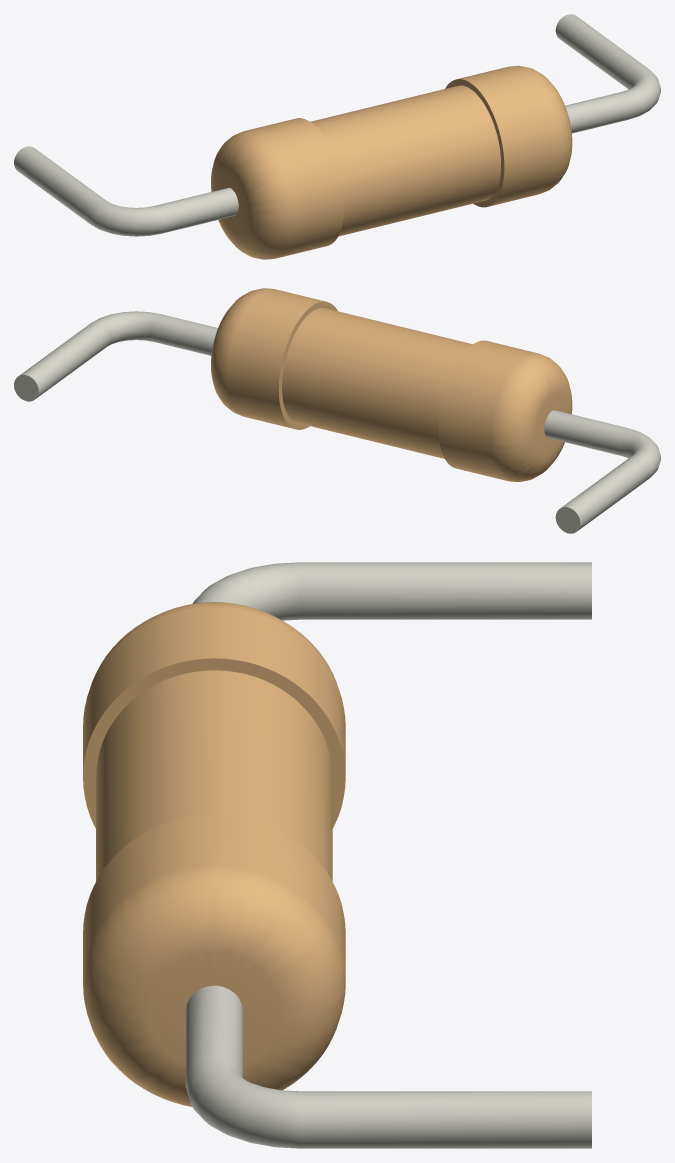
Rendered from r-axial-din0309-l9.0-d3.2-p15.24-h.glb.
3 renders of one model, top to bottom at view 1: azimuth 30°, elevation 25°; view 2: azimuth 150°, elevation 25°; view 3: azimuth 270°, elevation 25°, orthographic. The views are drawn at different scales.
Parts seen in each view (by area): view 1: RES-THT-01, PIN-01; view 2: RES-THT-01, PIN-01; view 3: RES-THT-01, PIN-01.
Boxes of the visible parts, box(x1,y1,x2,y2) form: RES-THT-01: box(211, 65, 572, 259); PIN-01: box(14, 14, 660, 236); RES-THT-01: box(211, 288, 572, 481); PIN-01: box(14, 311, 660, 533); RES-THT-01: box(83, 602, 345, 1106); PIN-01: box(185, 562, 591, 1148).
Size of the model in its own units: 15.94 by 3.2 by 6.2.
